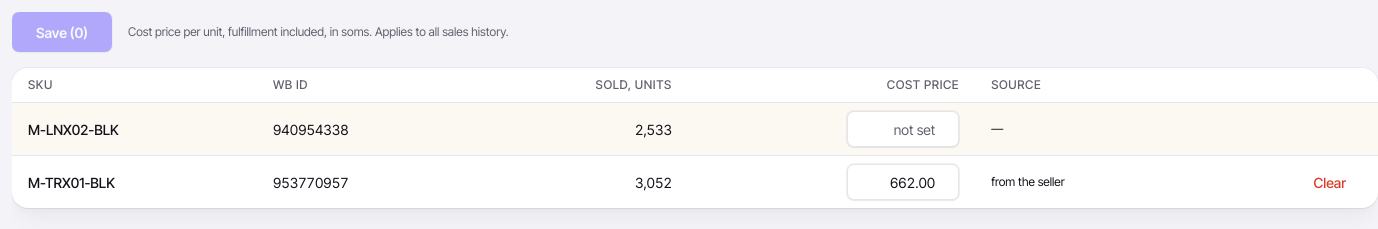
it: which edits reach the server › counts pending writes and removals together on the button
In the number field with placeholder "not set": {"x": 903, "y": 129} [847, 111, 959, 147], type "800"
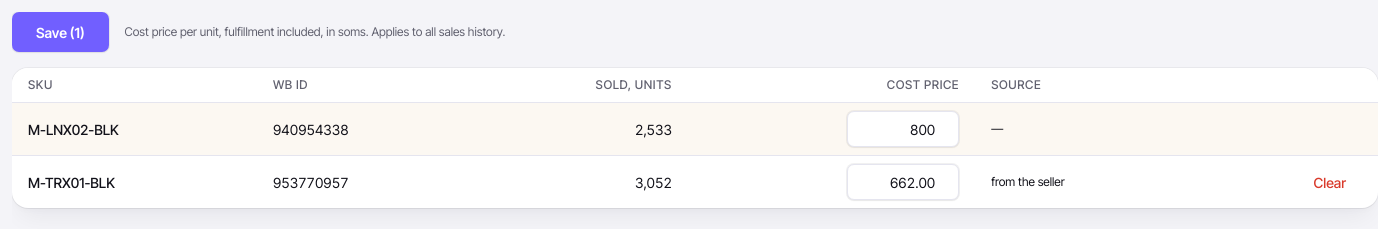
Clear the number field in the row of "M-TRX01-BLK": {"x": 903, "y": 182} [847, 164, 959, 200]
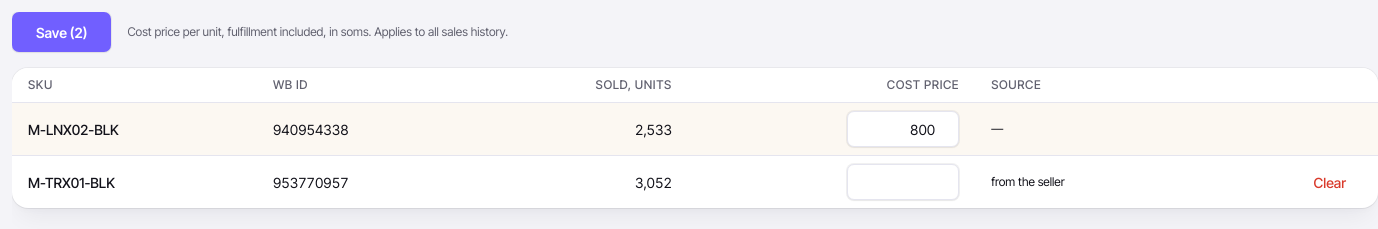
Now the button "Save (2)" is shown, box [12, 12, 111, 52]
